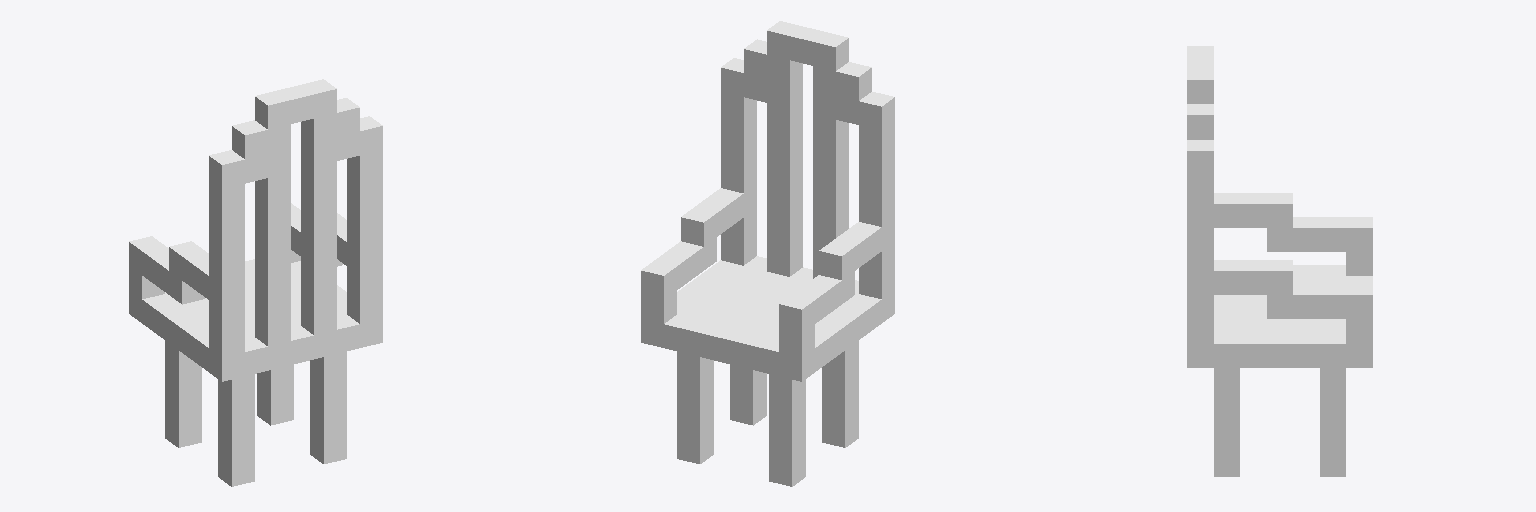
The model's file is chair_3.obj.
3 renders of one model, left to right at view 1: azimuth 30°, elevation 25°; view 2: azimuth 150°, elevation 25°; view 3: azimuth 270°, elevation 25°, orthographic.
Parts seen in each view (by area): view 1: object 1; view 2: object 1; view 3: object 1.
Part boxes in pixels (left/top/right/bottom): object 1: left=129, top=79, right=382, bottom=486; object 1: left=641, top=21, right=894, bottom=486; object 1: left=1187, top=46, right=1372, bottom=476.
Bounding box in the file's own units: 0.7 × 1.6 × 0.7.